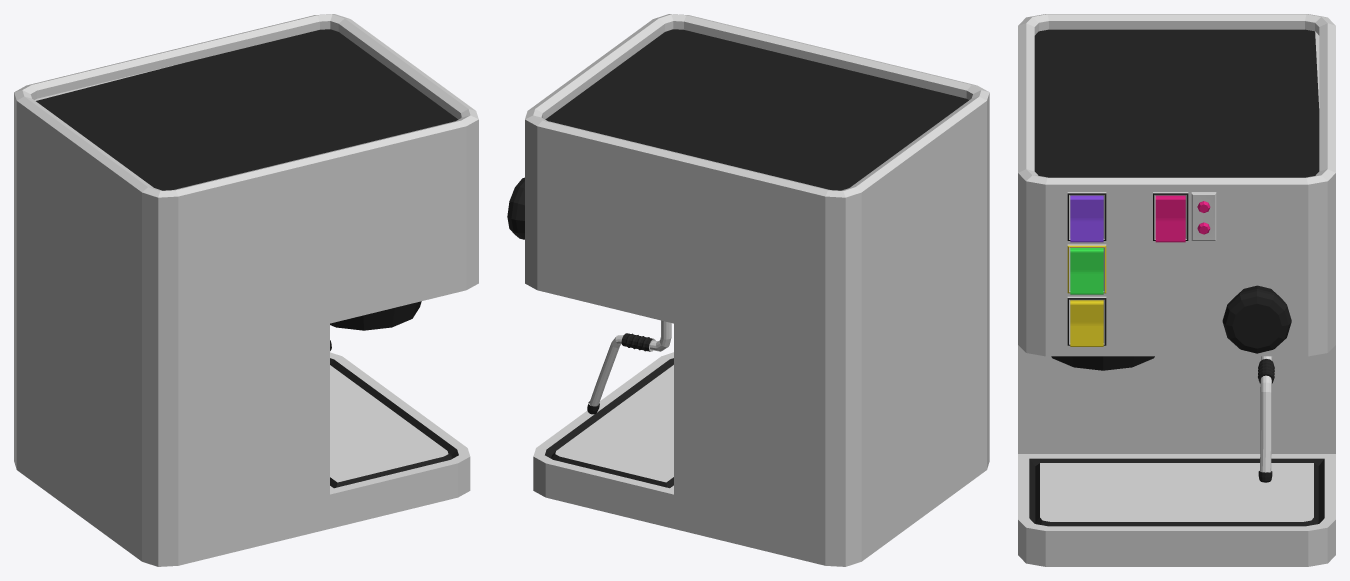
File: CoffeeMaschineNew.fbx
The picture shows the model from 3 angles, left to right: view 1: azimuth 30°, elevation 25°; view 2: azimuth 150°, elevation 25°; view 3: azimuth 270°, elevation 25°; orthographic projection. The views are drawn at different scales.
Parts seen in each view (by area): view 1: Espresso_Machine_Model; view 2: Espresso_Machine_Model; view 3: Espresso_Machine_Model.
Boxes of the visible parts, bbox=[...] form: Espresso_Machine_Model: bbox=[14, 14, 478, 566]; Espresso_Machine_Model: bbox=[507, 14, 989, 566]; Espresso_Machine_Model: bbox=[1018, 14, 1335, 566].
Bounding box in the file's own units: 56.69 × 55.13 × 40.74.
